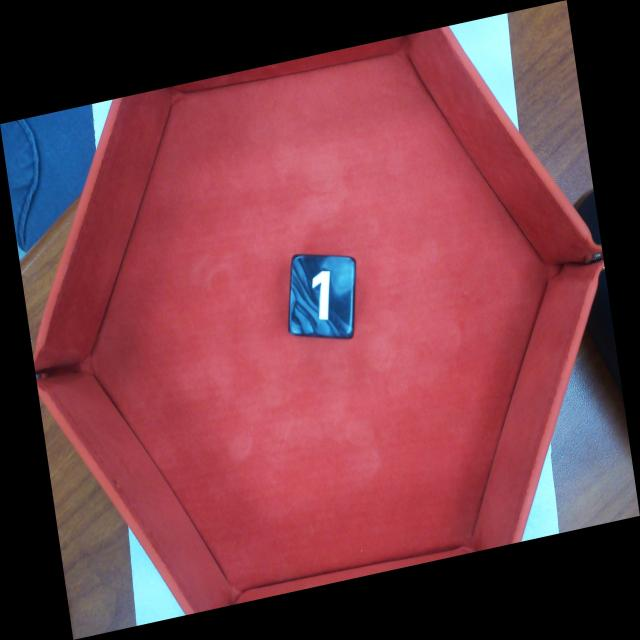dice: (286, 252, 357, 342)
